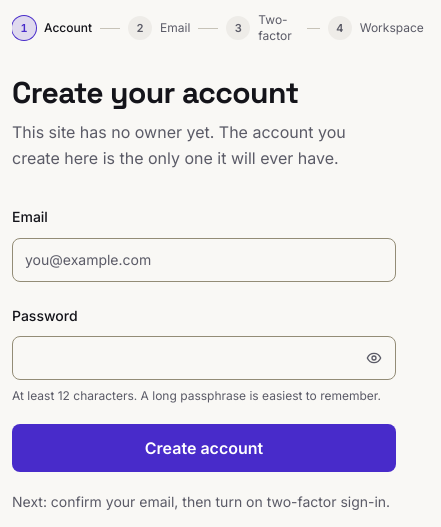
first-run sign-up › asks you to confirm your email when the project requires it
The image size is (441, 527).
In the field labelled "Email": (204, 260) [12,238,396,282], type "owner@example.com"
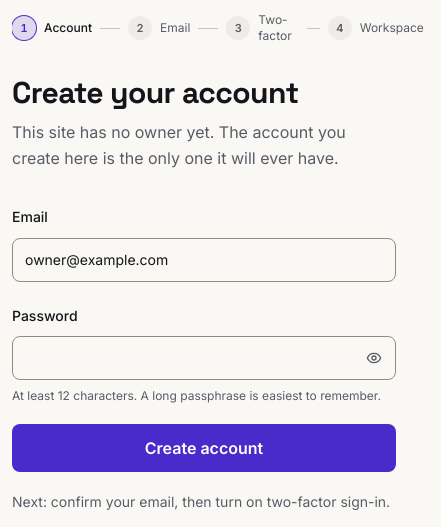
In the password field labelled "Password": (204, 358) [12,336,396,380], type "correct horse battery staple 9"
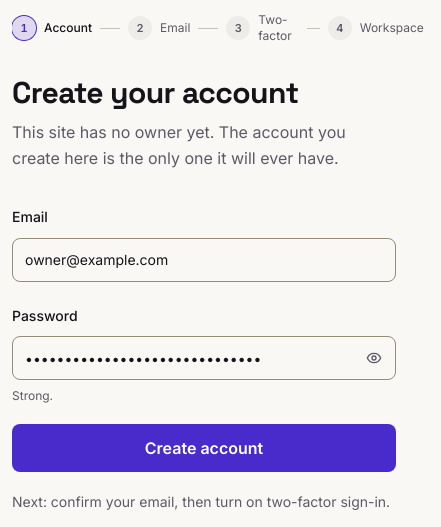
Click the button "Create account": click(204, 448) [12,424,396,472]
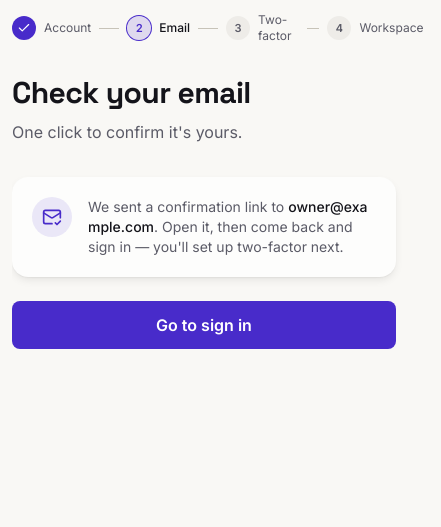
Result: the heading "Check your email" is shown at [12,73,251,112]
